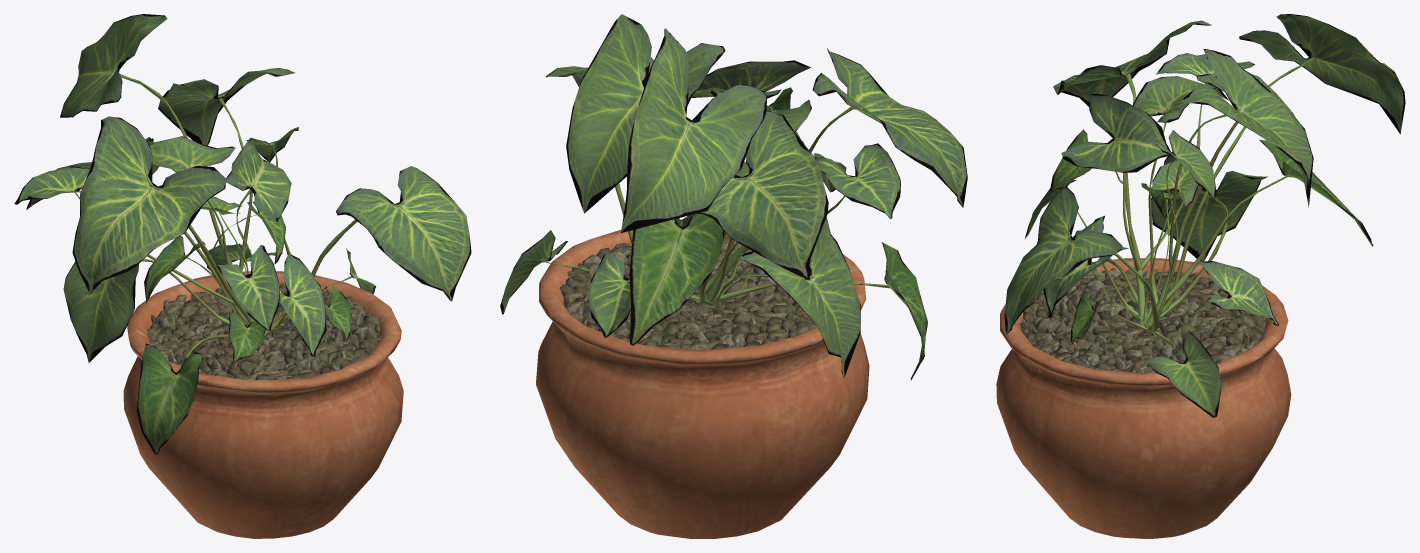
Rendered from potted-plant.glb.
The picture shows the model from 3 angles, left to right: view 1: azimuth 30°, elevation 25°; view 2: azimuth 150°, elevation 25°; view 3: azimuth 270°, elevation 25°; orthographic projection. The views are drawn at different scales.
Bounding box in the file's own units: 0.7006 × 0.8412 × 0.6561.
Materials: 2 (2 with a texture image).
